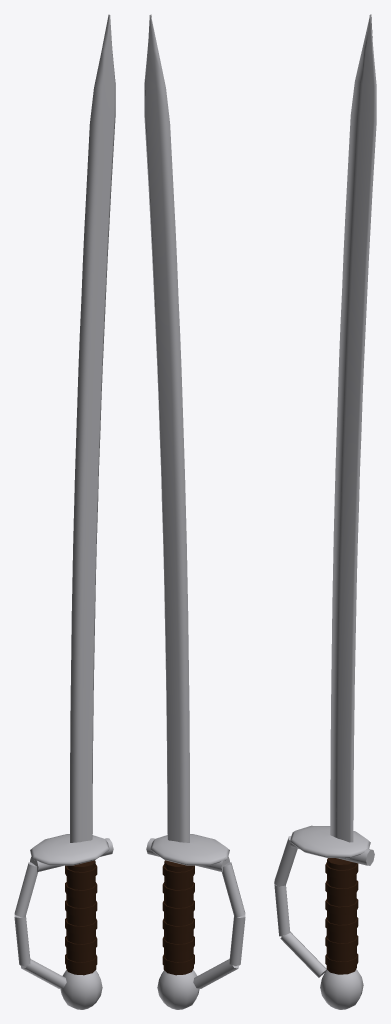
The model's file is SM_Art_Weapon_ToledoSaber.gltf.
The picture shows the model from 3 angles, left to right: view 1: azimuth 30°, elevation 25°; view 2: azimuth 150°, elevation 25°; view 3: azimuth 330°, elevation 25°; orthographic projection.
Visible parts, largest first — view 1: SM_Art_Weapon_ToledoSaber; view 2: SM_Art_Weapon_ToledoSaber; view 3: SM_Art_Weapon_ToledoSaber.
Part boxes in pixels (left/top/right/bottom): SM_Art_Weapon_ToledoSaber: left=14, top=14, right=115, bottom=1009; SM_Art_Weapon_ToledoSaber: left=144, top=14, right=245, bottom=1009; SM_Art_Weapon_ToledoSaber: left=274, top=14, right=376, bottom=1009.
Bounding box in the file's own units: 0.1077 × 1 × 0.0571.
